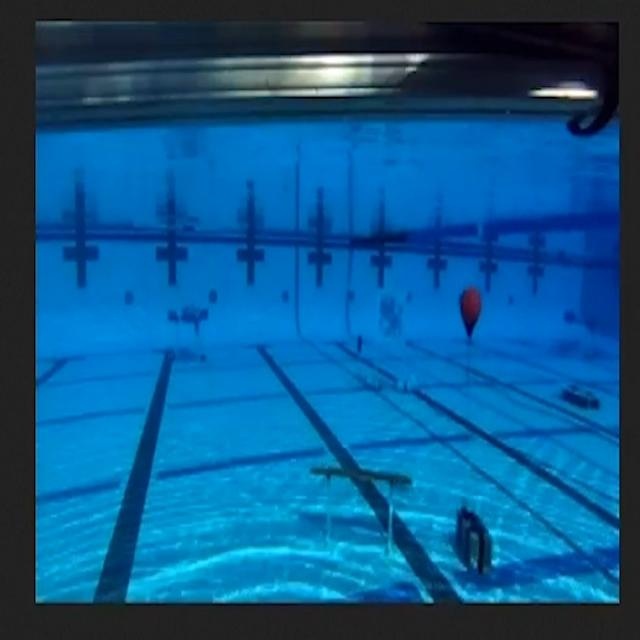Buoy: (456, 279, 485, 352)
